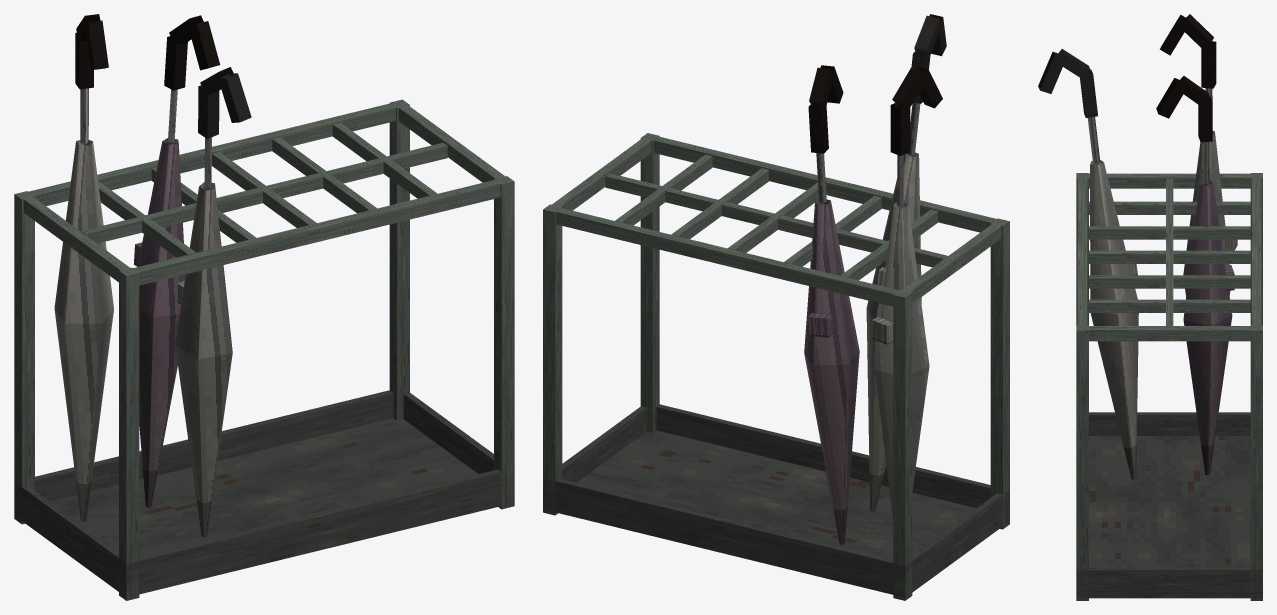
File: prop_umbrella_stand-1.glb
The picture shows the model from 3 angles, left to right: view 1: azimuth 30°, elevation 25°; view 2: azimuth 150°, elevation 25°; view 3: azimuth 270°, elevation 25°; orthographic projection. The views are drawn at different scales.
Parts seen in each view (by area): view 1: prop_umbrella_stand-1; view 2: prop_umbrella_stand-1; view 3: prop_umbrella_stand-1.
Boxes of the visible parts, <box> form: prop_umbrella_stand-1: <box>14,14,514,600</box>; prop_umbrella_stand-1: <box>543,14,1009,600</box>; prop_umbrella_stand-1: <box>1038,14,1262,600</box>.
Size of the model in its own units: 0.6 by 0.7813 by 0.3618.
7 materials, 7 textured.
